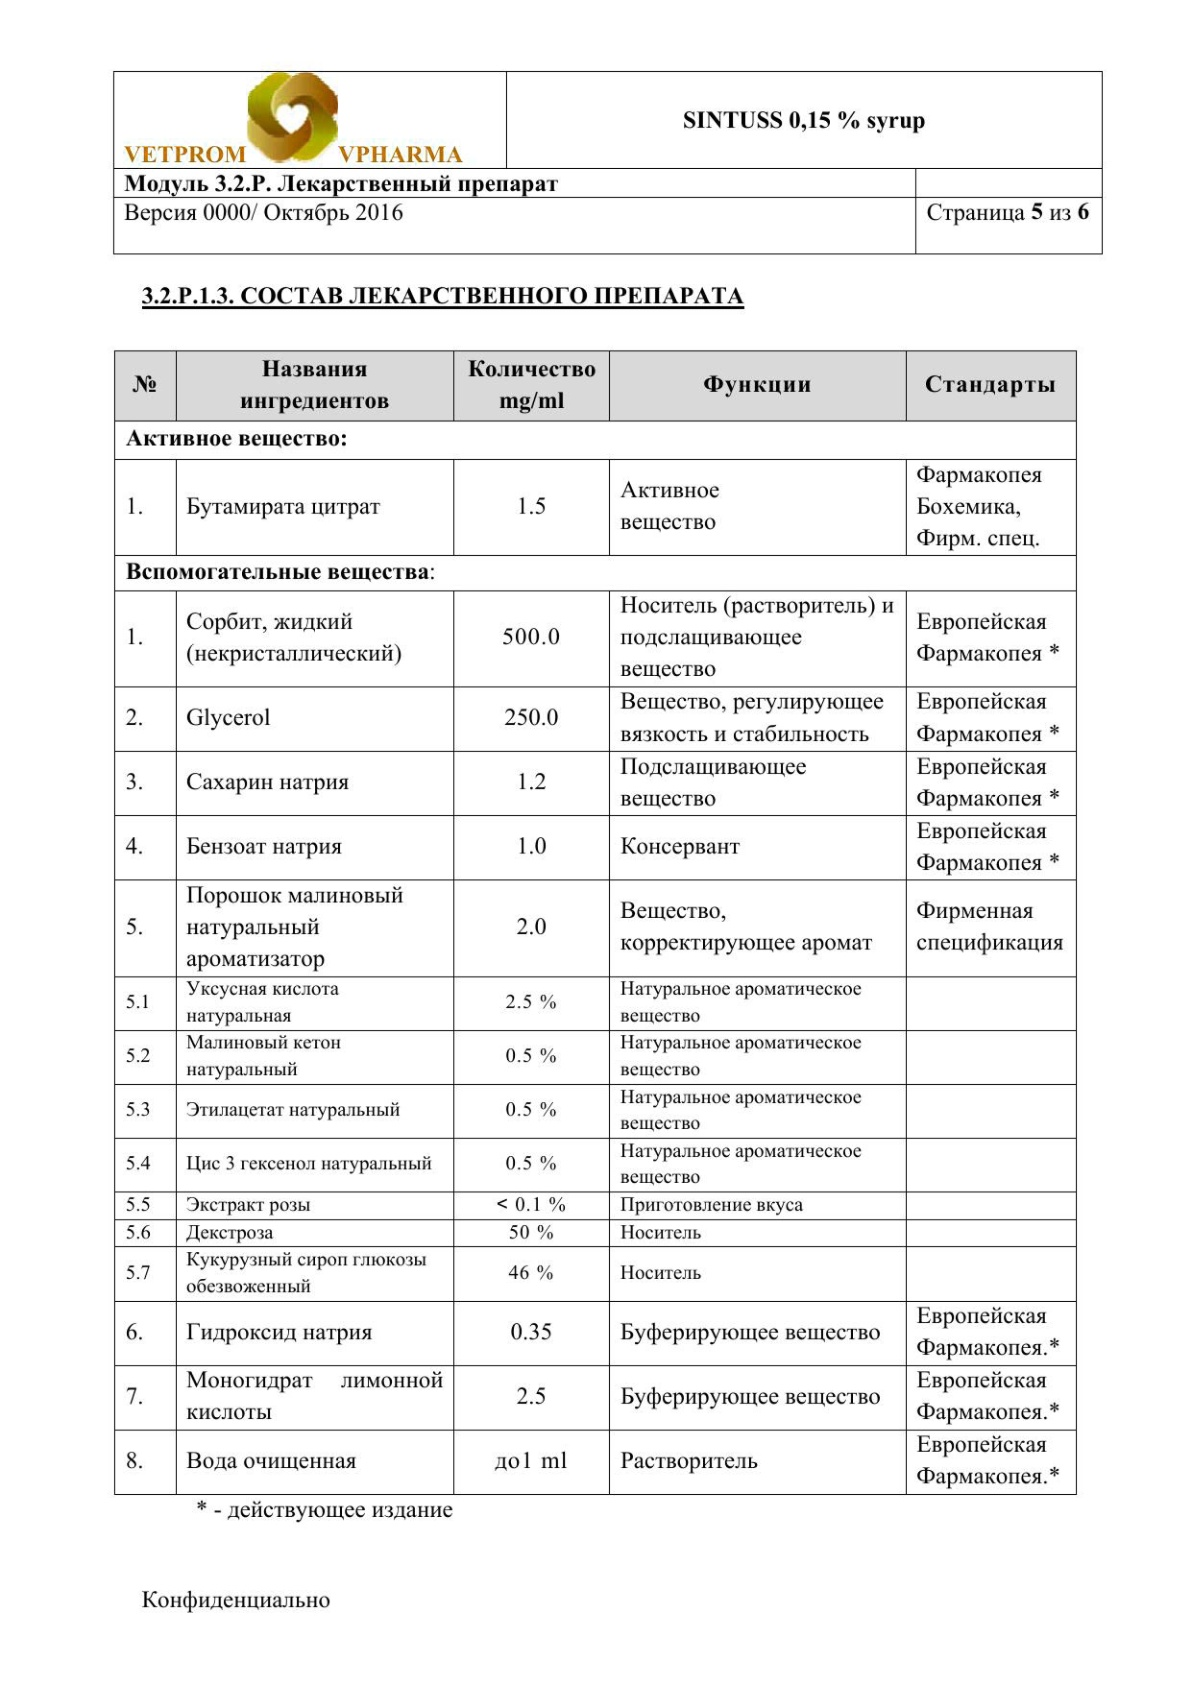merged_cells: (112, 350, 1078, 1497), (112, 68, 1104, 255)
